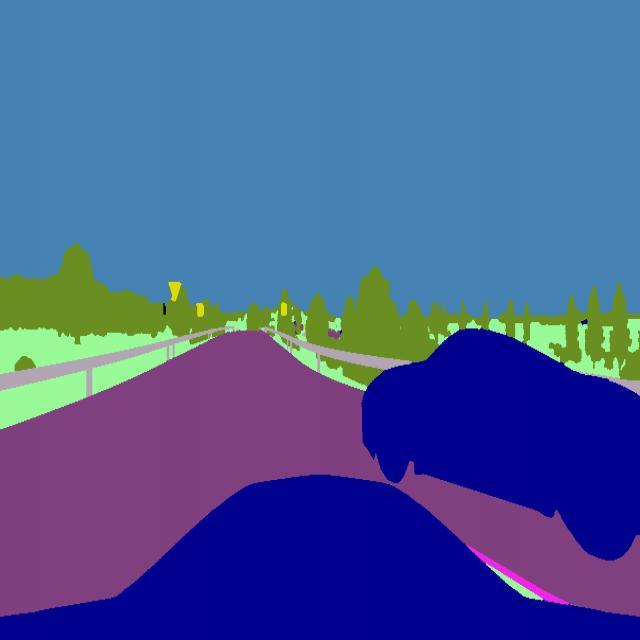unsafe: (359, 322, 640, 580)
